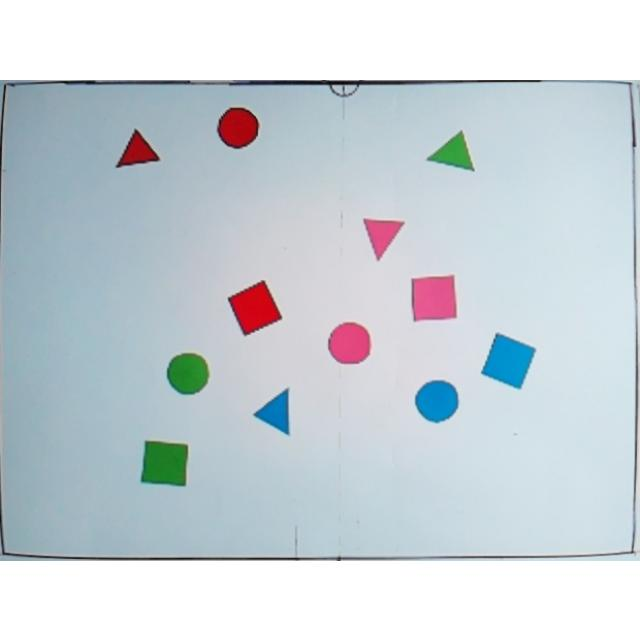blueCircle: (412, 376, 460, 424)
blueSquare: (478, 330, 538, 390)
blueTriangle: (252, 384, 296, 436)
greenCircle: (165, 350, 211, 396)
greenSquare: (138, 437, 190, 488)
greenTriangle: (426, 128, 478, 174)
pinkCircle: (328, 320, 372, 364)
pinkSquare: (410, 273, 460, 321)
pinkTriangle: (361, 215, 405, 262)
redCircle: (215, 105, 262, 149)
redSquare: (227, 278, 286, 338)
redTriangle: (114, 125, 162, 168)
